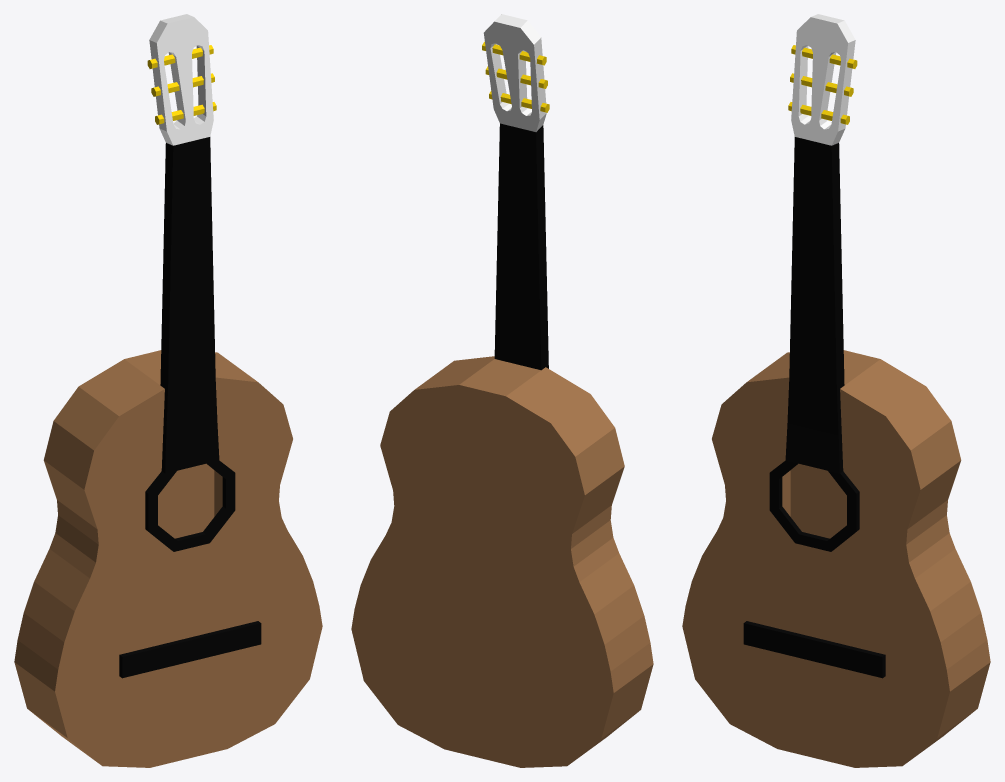
The model's file is Guitar.fbx.
3 renders of one model, left to right at view 1: azimuth 30°, elevation 25°; view 2: azimuth 150°, elevation 25°; view 3: azimuth 330°, elevation 25°, orthographic. The views are drawn at different scales.
Parts seen in each view (by area): view 1: Cube; view 2: Cube; view 3: Cube.
Boxes of the visible parts, x1,y1,x2,y2 form: Cube: (14, 14, 322, 767); Cube: (351, 14, 653, 767); Cube: (682, 14, 990, 767).
Bounding box in the file's own units: 38 × 99.36 × 10.86.
